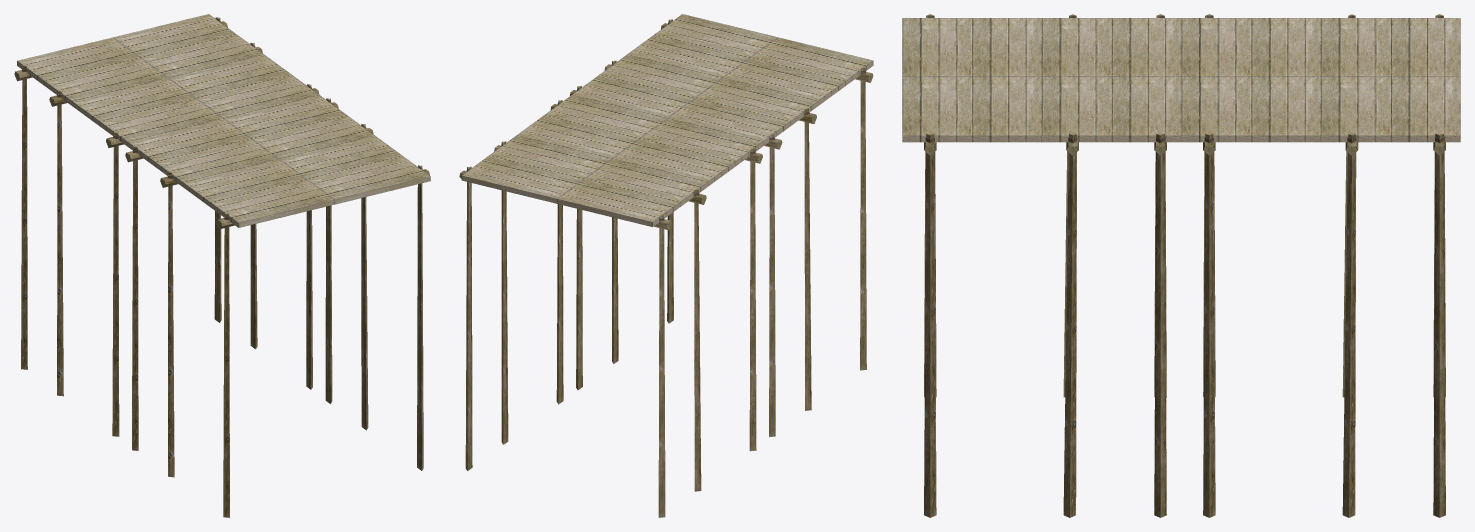
The model's file is thm_endr_lake_platform_rectangle_s01_l1.fbx.
3 views of the same model, side by side, from view 1: azimuth 30°, elevation 25°; view 2: azimuth 150°, elevation 25°; view 3: azimuth 270°, elevation 25° (orthographic). The views are drawn at different scales.
Parts seen in each view (by area): view 1: mesh_node; view 2: mesh_node; view 3: mesh_node.
Part boxes in pixels (left/top/right/bottom): mesh_node: left=14, top=14, right=430, bottom=517; mesh_node: left=459, top=14, right=873, bottom=517; mesh_node: left=902, top=14, right=1460, bottom=517.
Size of the model in its own units: 8.68 by 12.07 by 16.
